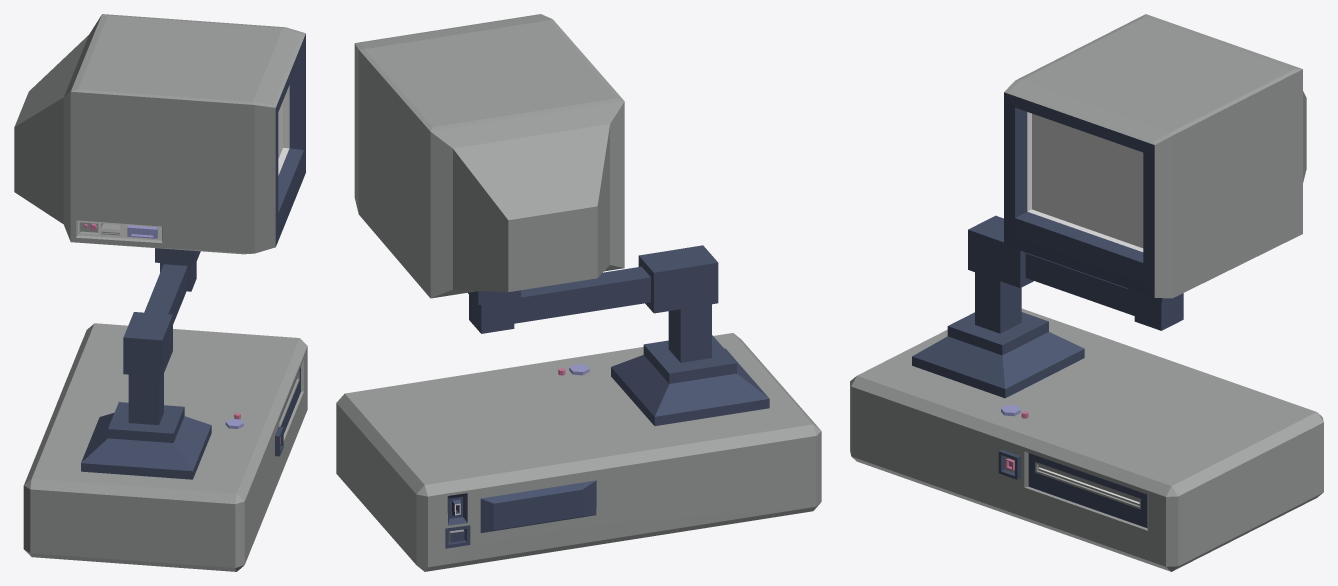
File: Computer.fbx
3 views of the same model, side by side, from view 1: azimuth 30°, elevation 25°; view 2: azimuth 150°, elevation 25°; view 3: azimuth 270°, elevation 25° (orthographic). The views are drawn at different scales.
Visible parts, largest first — view 1: monitor 1, keyboard 1; view 2: monitor 1, keyboard 1; view 3: monitor 1, keyboard 1.
Part boxes in pixels (x1=…): monitor 1: x1=14, y1=14, x2=305, y2=479; keyboard 1: x1=23, y1=323, x2=307, y2=571; monitor 1: x1=354, y1=14, x2=769, y2=425; keyboard 1: x1=336, y1=333, x2=821, y2=571; monitor 1: x1=912, y1=14, x2=1306, y2=398; keyboard 1: x1=850, y1=308, x2=1323, y2=571.
Bounding box in the file's own units: 513 × 540 × 539.
